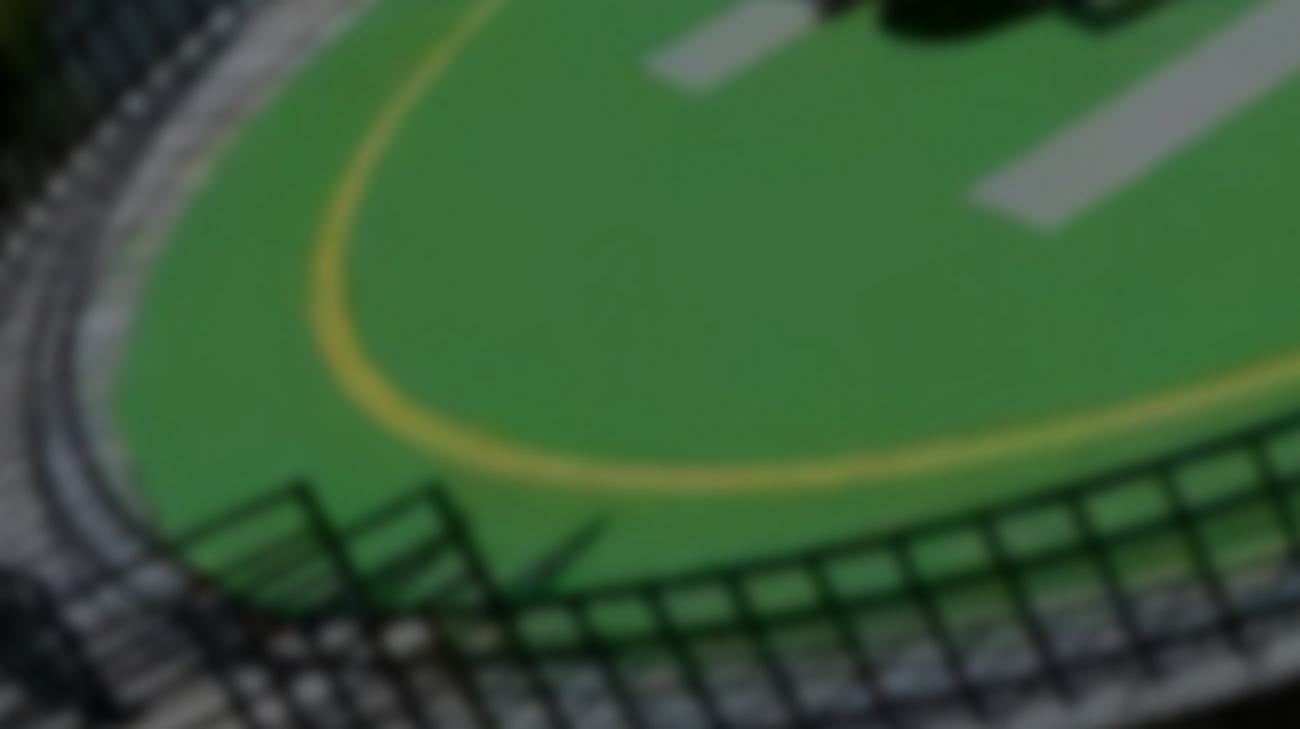Apron: (279, 3, 1300, 493)
